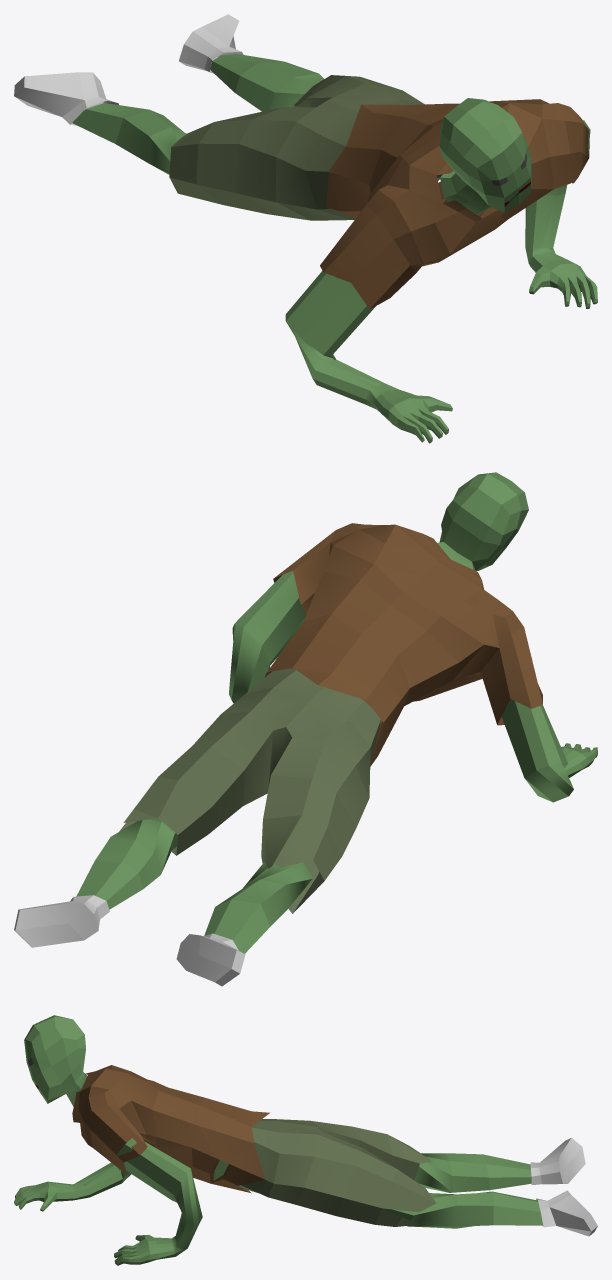
Rendered from ZombieCrawl(30).obj.
3 views of the same model, one above another, from view 1: azimuth 30°, elevation 25°; view 2: azimuth 150°, elevation 25°; view 3: azimuth 270°, elevation 25° (orthographic). The views are drawn at different scales.
Visible parts, largest first — view 1: Object001; view 2: Object001; view 3: Object001.
Boxes of the visible parts, x1,y1,x2,y2 form: Object001: [14, 14, 597, 443]; Object001: [14, 472, 597, 986]; Object001: [14, 1015, 597, 1265].
Bounding box in the file's own units: 26.96 × 24.32 × 59.68.
